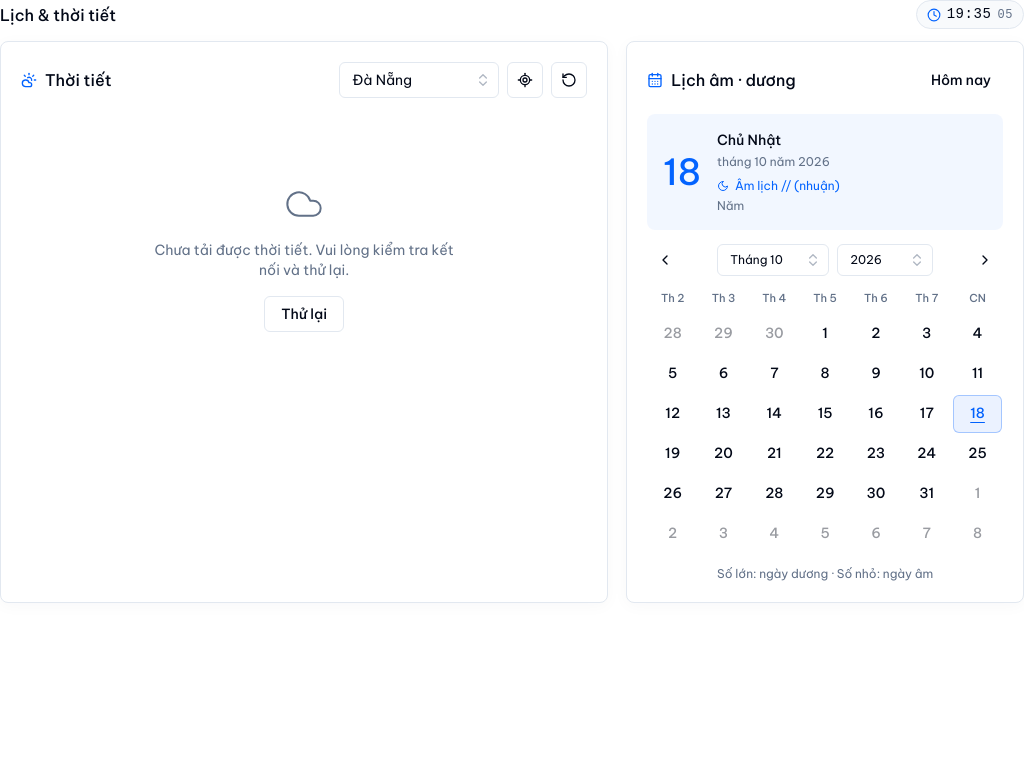
it: Calendar and weather overview › shows a recoverable error without invented temperatures
Expected: the message reads "Chưa tải được thời tiết. Vui lòng kiểm tra kết nối và thử lại.", [154,241,454,279]
Expected: the text "27°" is not shown
Click the button "Thử lại" at (304, 314), box [264,296,344,332]
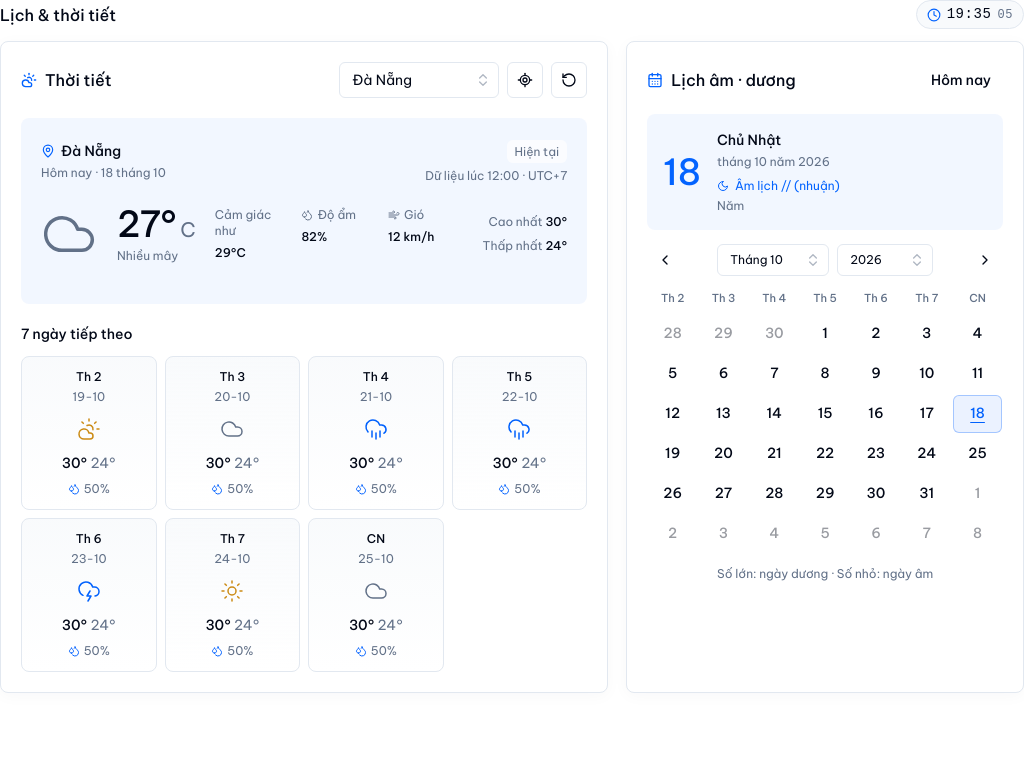
Now the text "27°" is shown, box [117,201,176,247]
